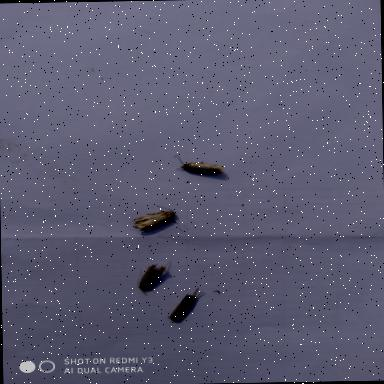pbw: (127, 258, 173, 300), (170, 151, 230, 182), (164, 287, 208, 326), (127, 202, 180, 234)
